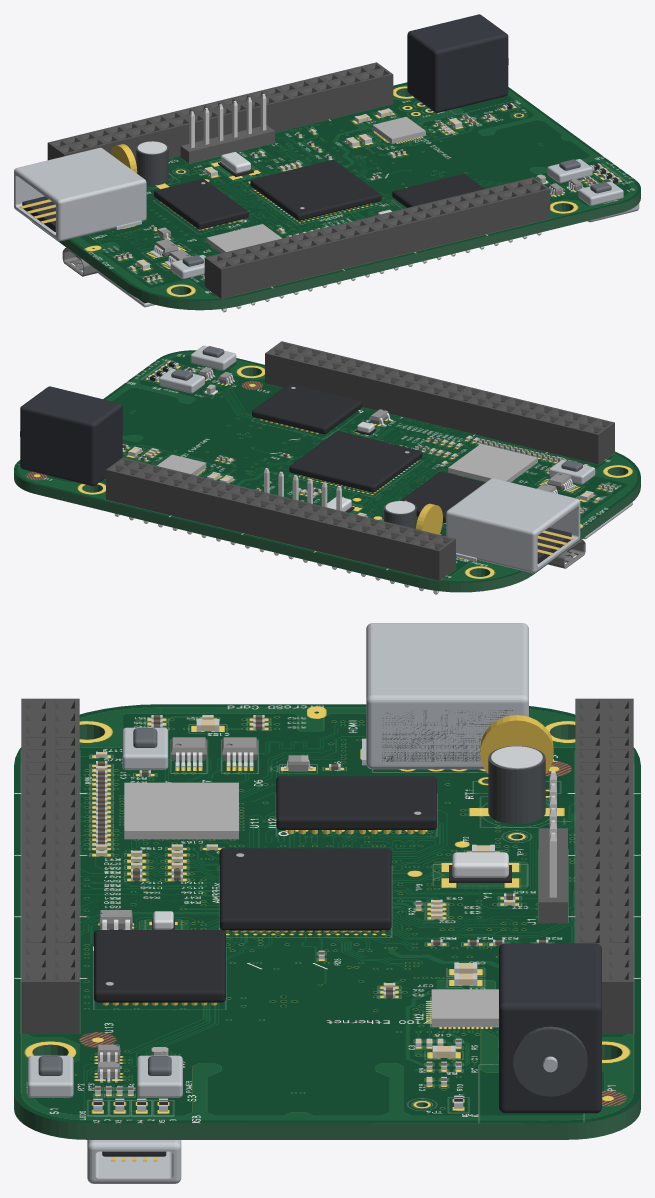
File: without-ethernet.glb
3 renders of one model, top to bottom at view 1: azimuth 30°, elevation 25°; view 2: azimuth 150°, elevation 25°; view 3: azimuth 270°, elevation 25°, orthographic. The views are drawn at different scales.
Parts seen in each view (by area): view 1: Box0, P8, P9, P3, P1, U5, J1, U12, U13, C34, U11, U2 (+6 smaller); view 2: Box0, P9, P8, P3, P1, U5, U13, U11, U12, J1, S1, S3 (+5 smaller); view 3: Box0, P3, P8, P1, P9, U5, U13, U12, U11, C34, P4, J1 (+8 smaller).
Boxes of the visible parts, x1=… form: Box0: x1=30, y1=82, x2=640, y2=310; P8: x1=204, y1=177, x2=550, y2=312; P9: x1=47, y1=62, x2=393, y2=161; P3: x1=14, y1=147, x2=146, y2=241; P1: x1=407, y1=14, x2=508, y2=112; U5: x1=250, y1=160, x2=381, y2=220; J1: x1=180, y1=94, x2=274, y2=163; U12: x1=154, y1=179, x2=248, y2=230; U13: x1=392, y1=174, x2=484, y2=207; C34: x1=136, y1=141, x2=168, y2=185; U11: x1=206, y1=224, x2=282, y2=253; U2: x1=372, y1=116, x2=425, y2=143; Box0: x1=14, y1=350, x2=640, y2=592; P9: x1=106, y1=457, x2=455, y2=594; P8: x1=265, y1=341, x2=614, y2=464; P3: x1=446, y1=478, x2=580, y2=573; P1: x1=20, y1=386, x2=122, y2=486; U5: x1=289, y1=431, x2=422, y2=492; U13: x1=252, y1=384, x2=362, y2=434; U11: x1=448, y1=444, x2=537, y2=482; U12: x1=400, y1=471, x2=485, y2=523; J1: x1=264, y1=468, x2=341, y2=510; S1: x1=190, y1=345, x2=236, y2=370; S3: x1=159, y1=368, x2=204, y2=393; Box0: x1=14, y1=704, x2=640, y2=1139; P3: x1=362, y1=623, x2=528, y2=769; P8: x1=21, y1=698, x2=79, y2=1033; P1: x1=499, y1=943, x2=601, y2=1113; P9: x1=575, y1=698, x2=633, y2=1033; U5: x1=219, y1=848, x2=391, y2=932; U13: x1=94, y1=930, x2=225, y2=1005; U12: x1=276, y1=776, x2=436, y2=834; U11: x1=124, y1=782, x2=238, y2=839; C34: x1=488, y1=746, x2=545, y2=824; P4: x1=87, y1=1140, x2=181, y2=1183; J1: x1=538, y1=771, x2=567, y2=922.
Size of the model in its own units: 90.52 by 16.6 by 54.64.
31 materials, 2 textured.
